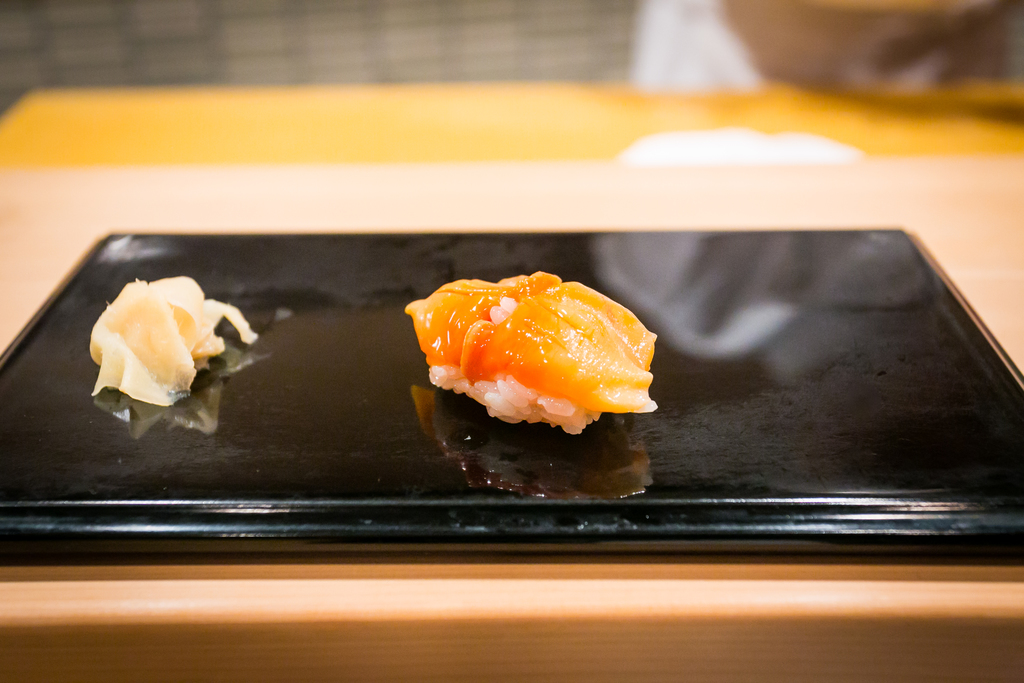sushi: (396, 264, 655, 433)
